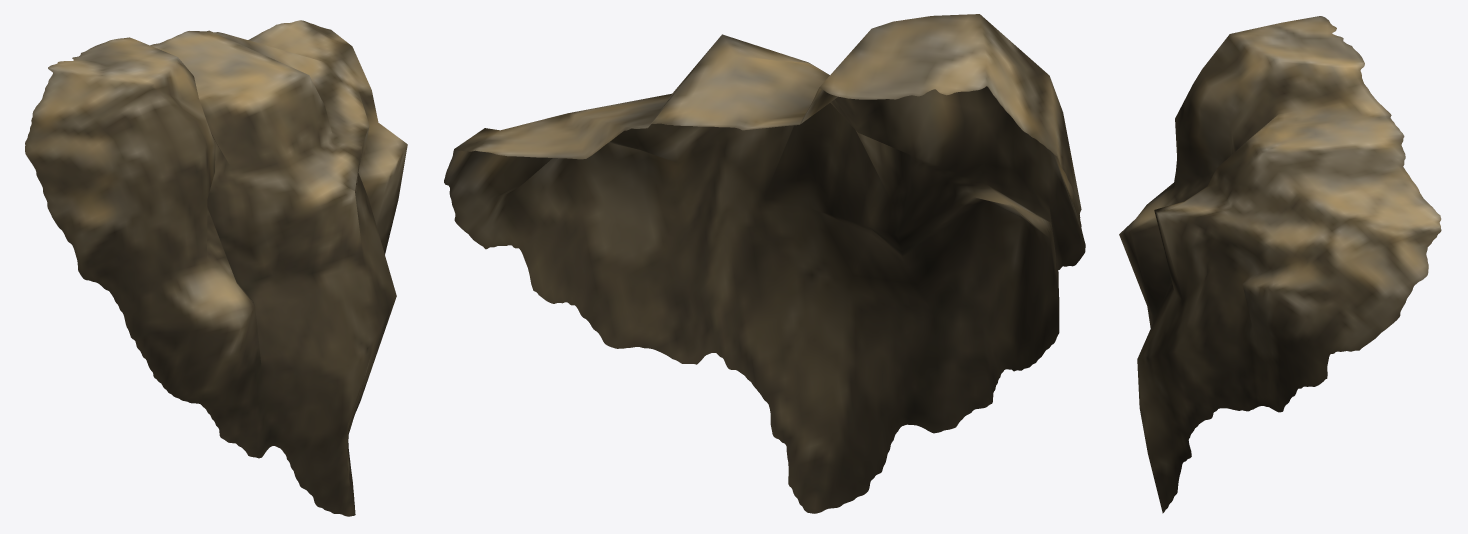
Rendered from xssm_rock_2_03.FBX.
The picture shows the model from 3 angles, left to right: view 1: azimuth 30°, elevation 25°; view 2: azimuth 150°, elevation 25°; view 3: azimuth 270°, elevation 25°; orthographic projection. The views are drawn at different scales.
Visible parts, largest first — view 1: xssm_rock_2_03; view 2: xssm_rock_2_03; view 3: xssm_rock_2_03.
Part boxes in pixels (x1,y1,x2,y2): xssm_rock_2_03: (25, 20, 407, 516); xssm_rock_2_03: (444, 14, 1085, 513); xssm_rock_2_03: (1119, 16, 1441, 513).
Bounding box in the file's own units: 331 × 350 × 259.
